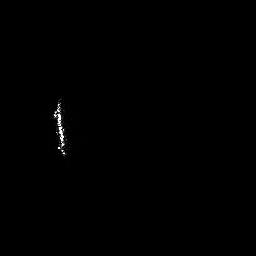ship: (52, 95, 69, 157)
